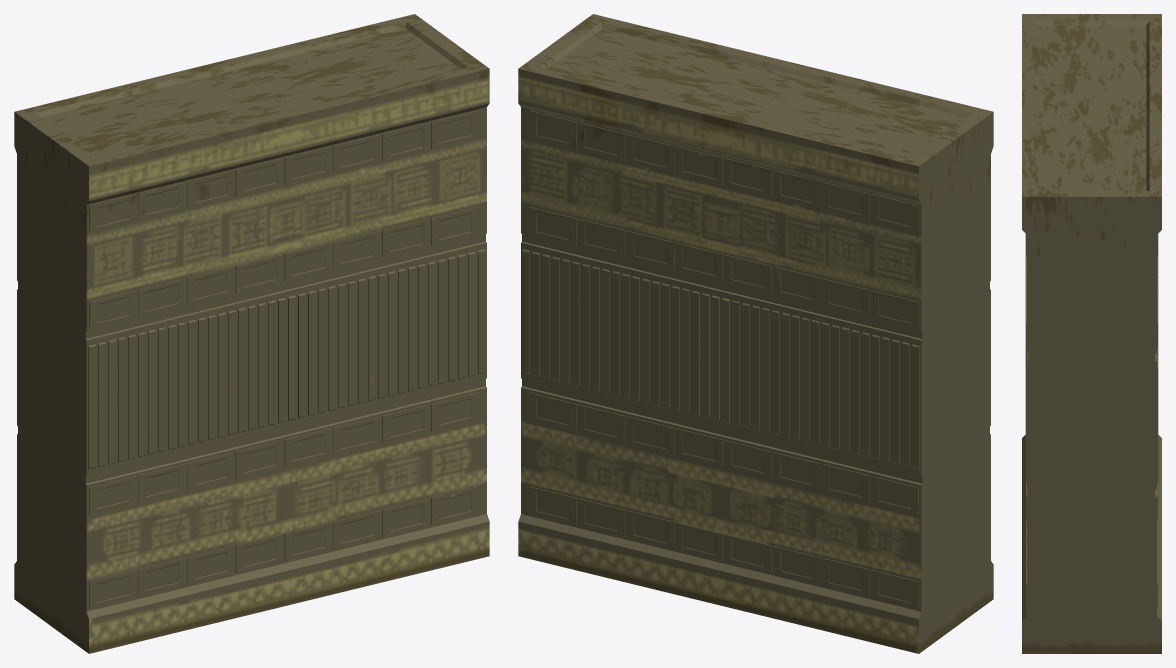
File: BIG WALL.fbx
3 views of the same model, side by side, from view 1: azimuth 30°, elevation 25°; view 2: azimuth 150°, elevation 25°; view 3: azimuth 270°, elevation 25° (orthographic). The views are drawn at different scales.
Visible parts, largest first — view 1: BIG WALL; view 2: BIG WALL; view 3: BIG WALL.
Part boxes in pixels (x1=…): BIG WALL: x1=14, y1=14, x2=489, y2=653; BIG WALL: x1=518, y1=14, x2=993, y2=653; BIG WALL: x1=1022, y1=14, x2=1161, y2=653.
Bounding box in the file's own units: 11.45 × 13.33 × 3.7.
